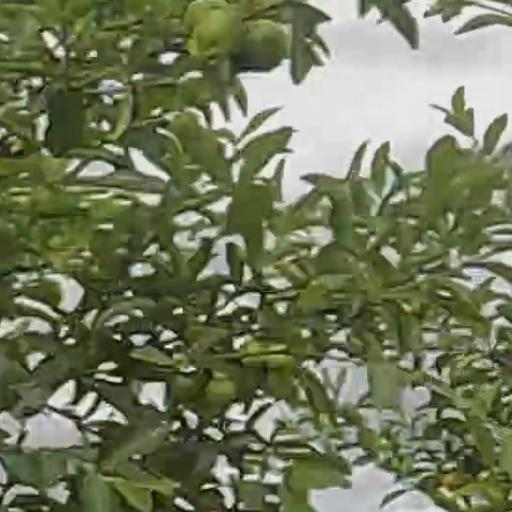acerola_verde: (192, 6, 237, 61), (240, 19, 283, 68)
